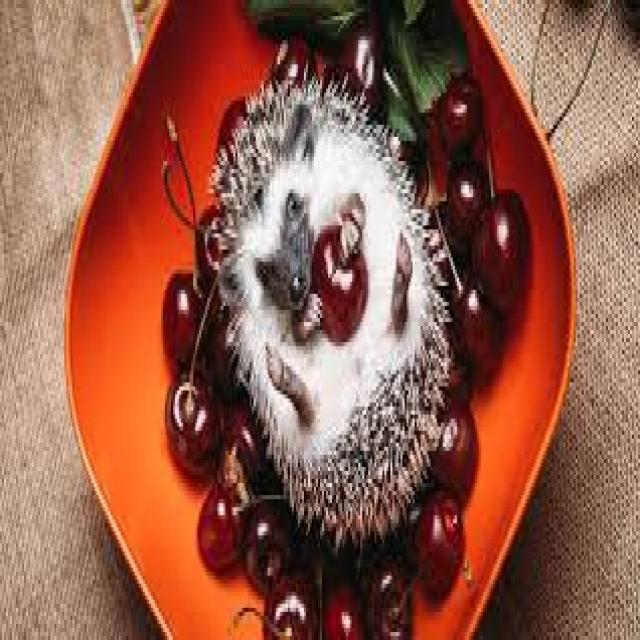Hedgehog: (202, 62, 453, 548)
